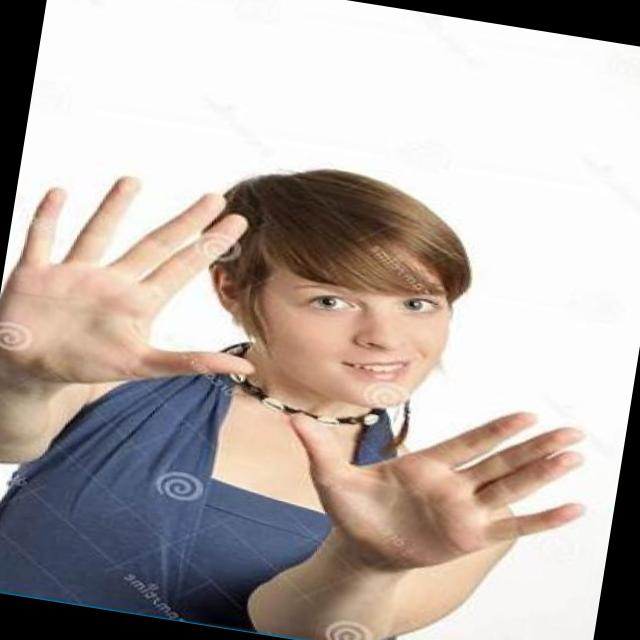not-gloved: (233, 354, 602, 591), (0, 144, 272, 407)
